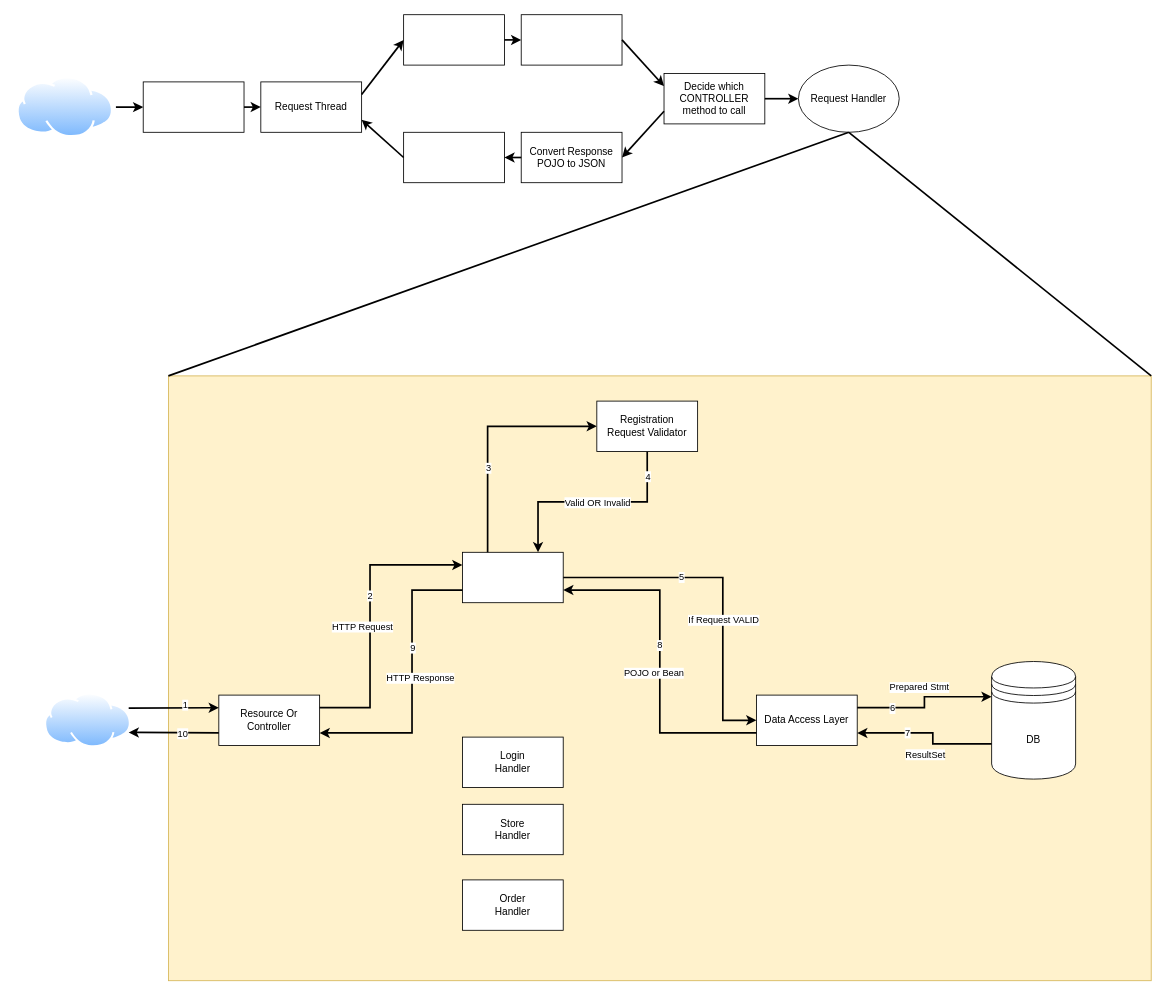
The diagram is 1168 pixels wide and 995 high, and some of its shapes have lost their labels. The shapes that lost their labels are listed below. From the top down, each one's box as (x1, y1, x2, y2) in pixels, then its label:
(403, 14, 504, 65): Open HTTP Request
(520, 14, 622, 65): Convert JSON to Request POJO
(142, 81, 244, 132): Servlet
(403, 131, 504, 183): Prepare HTTP Response
(462, 551, 563, 603): Registration Handler
